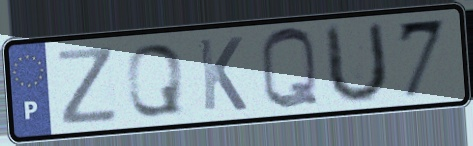7: (392, 18, 451, 101)
K: (195, 34, 250, 113)
Q: (257, 24, 323, 114), (124, 40, 186, 119)
U: (324, 18, 392, 108)
Z: (54, 44, 120, 129)
